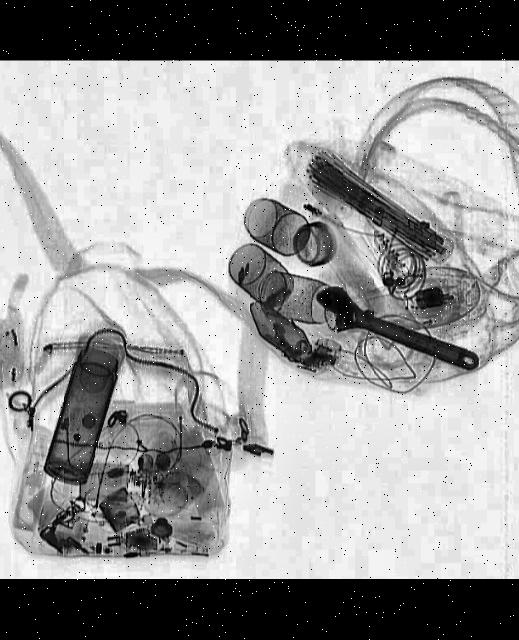Wrench: (306, 280, 486, 384)
